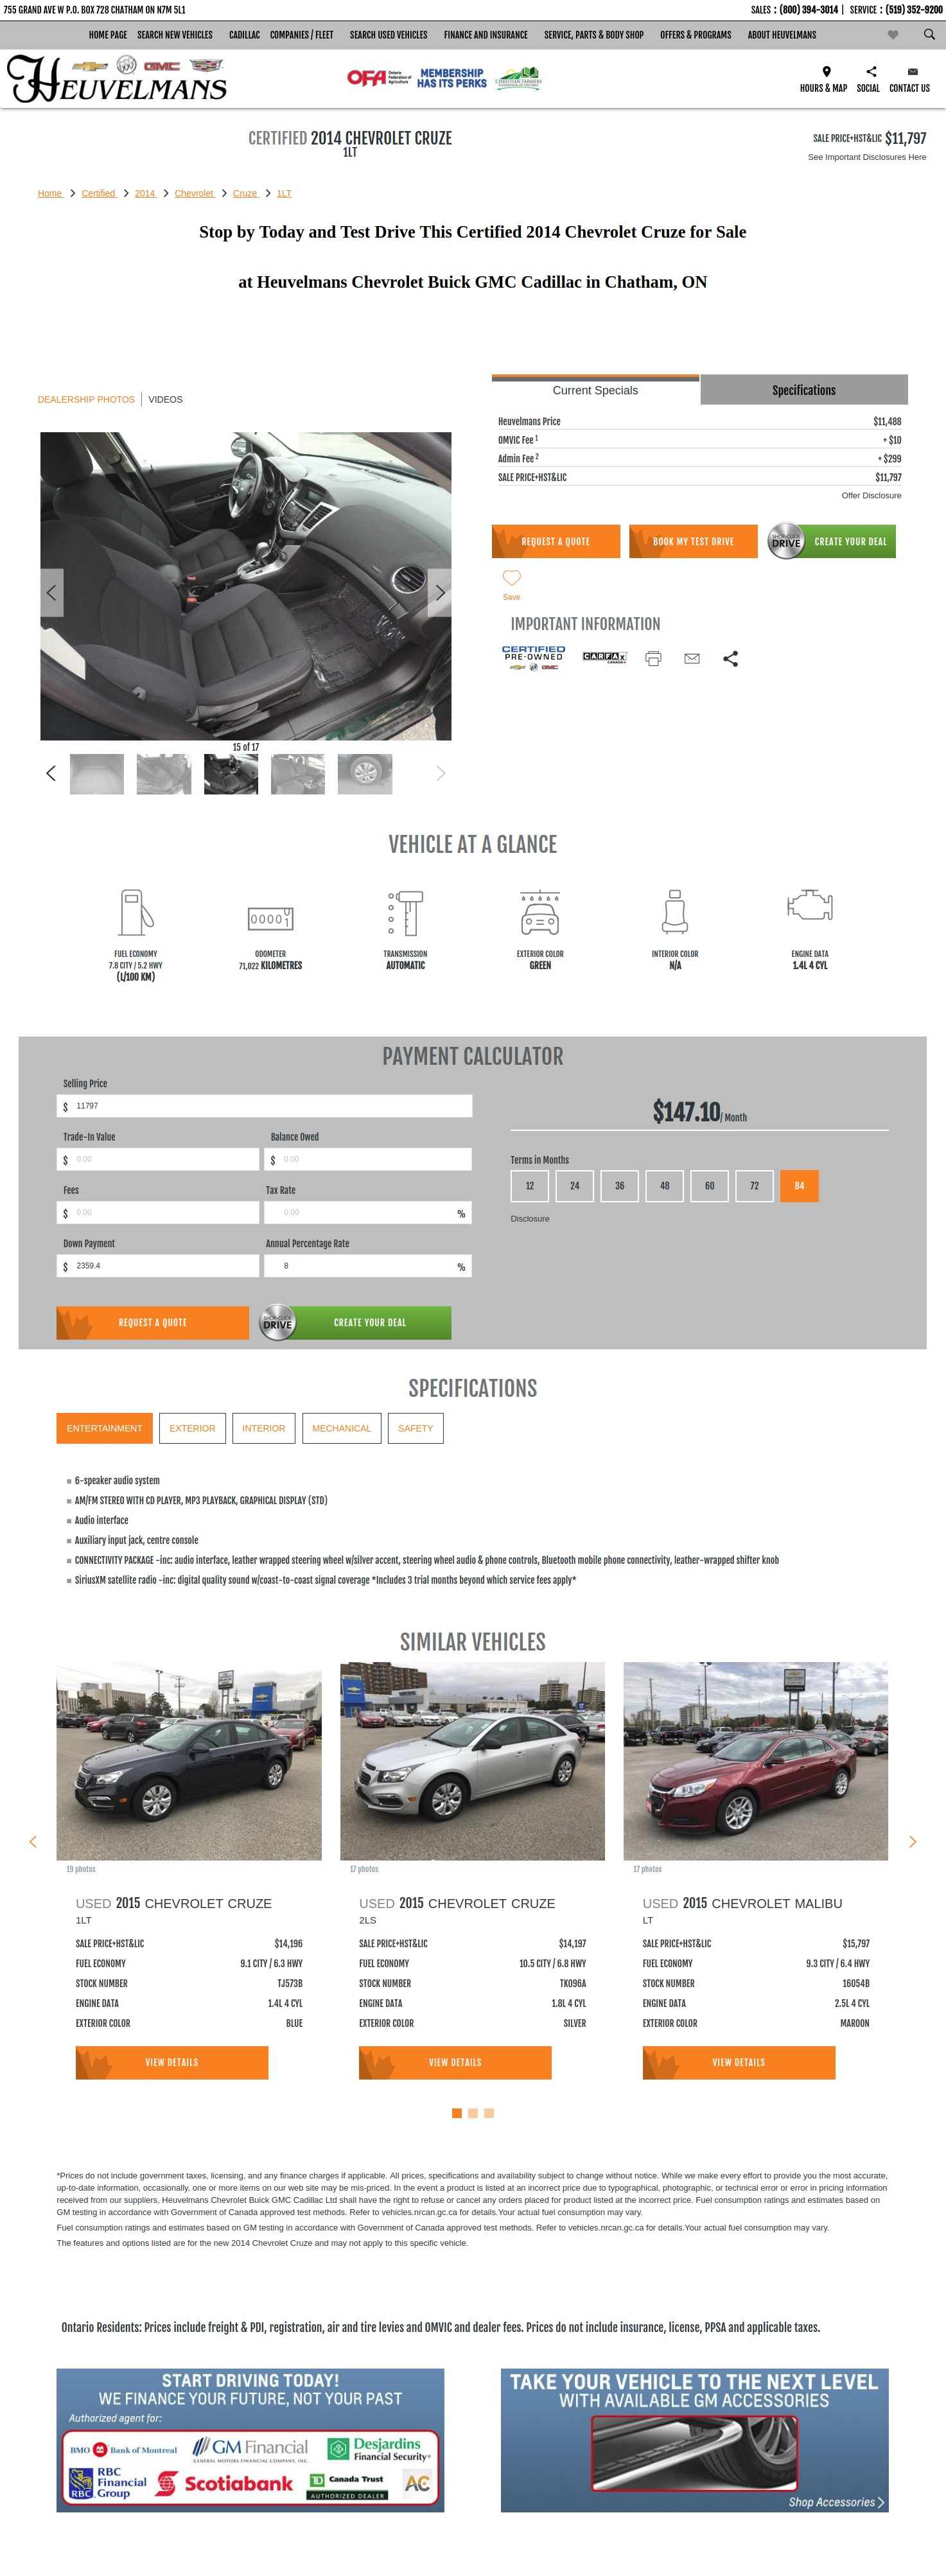car: (437, 766, 447, 782)
